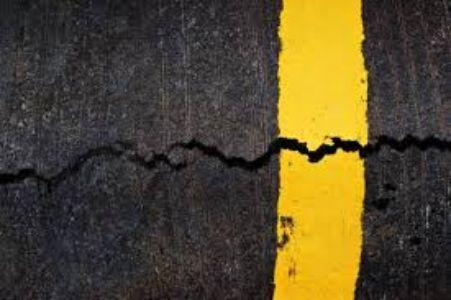crack: (0, 135, 451, 190)
